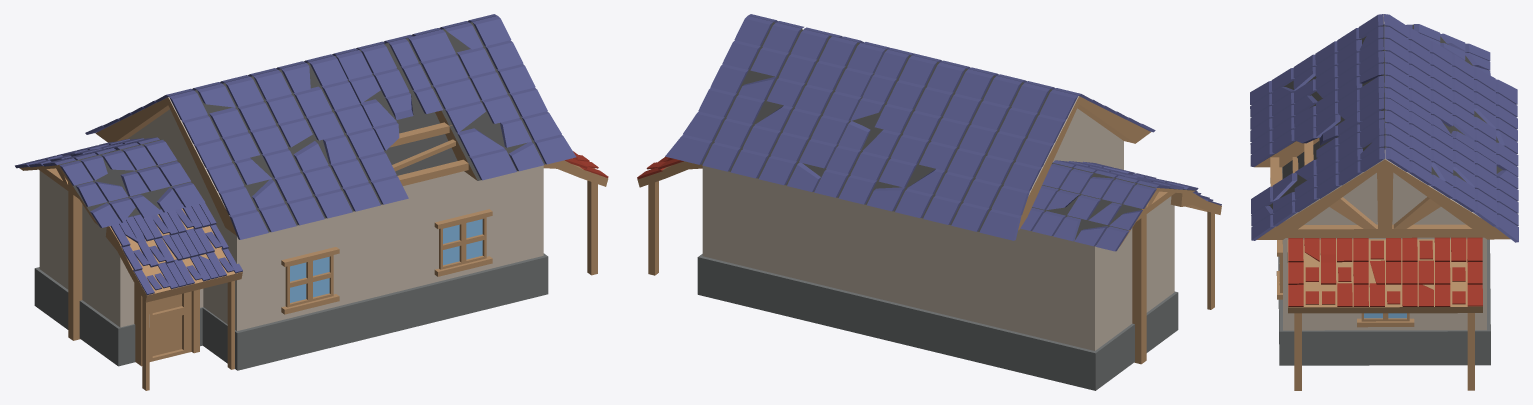
File: Rumah warga_1.fbx
3 views of the same model, side by side, from view 1: azimuth 30°, elevation 25°; view 2: azimuth 150°, elevation 25°; view 3: azimuth 270°, elevation 25° (orthographic). The views are drawn at different scales.
Visible parts, largest first — view 1: Rumah Warga.001; view 2: Rumah Warga.001; view 3: Rumah Warga.001.
Part boxes in pixels (bbox=[...]): Rumah Warga.001: bbox=[15, 14, 608, 390]; Rumah Warga.001: bbox=[637, 14, 1221, 390]; Rumah Warga.001: bbox=[1250, 14, 1518, 390].
Size of the model in its own units: 8.39 by 3.9 by 4.5.
